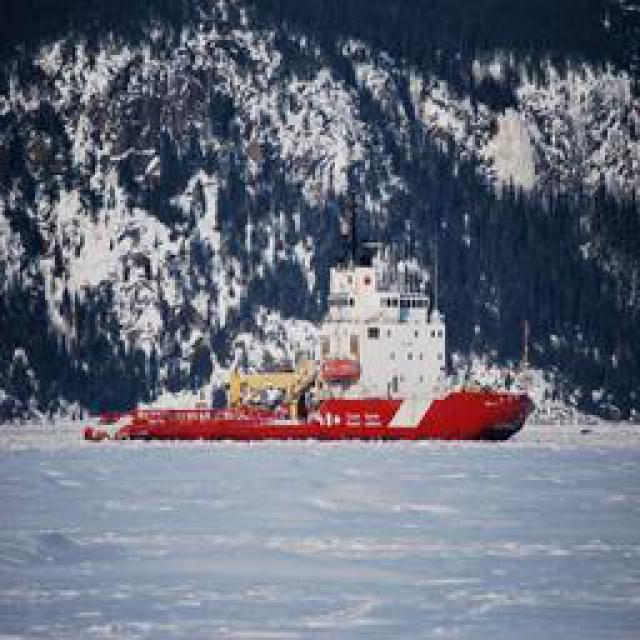Ship: (90, 374, 535, 447)
